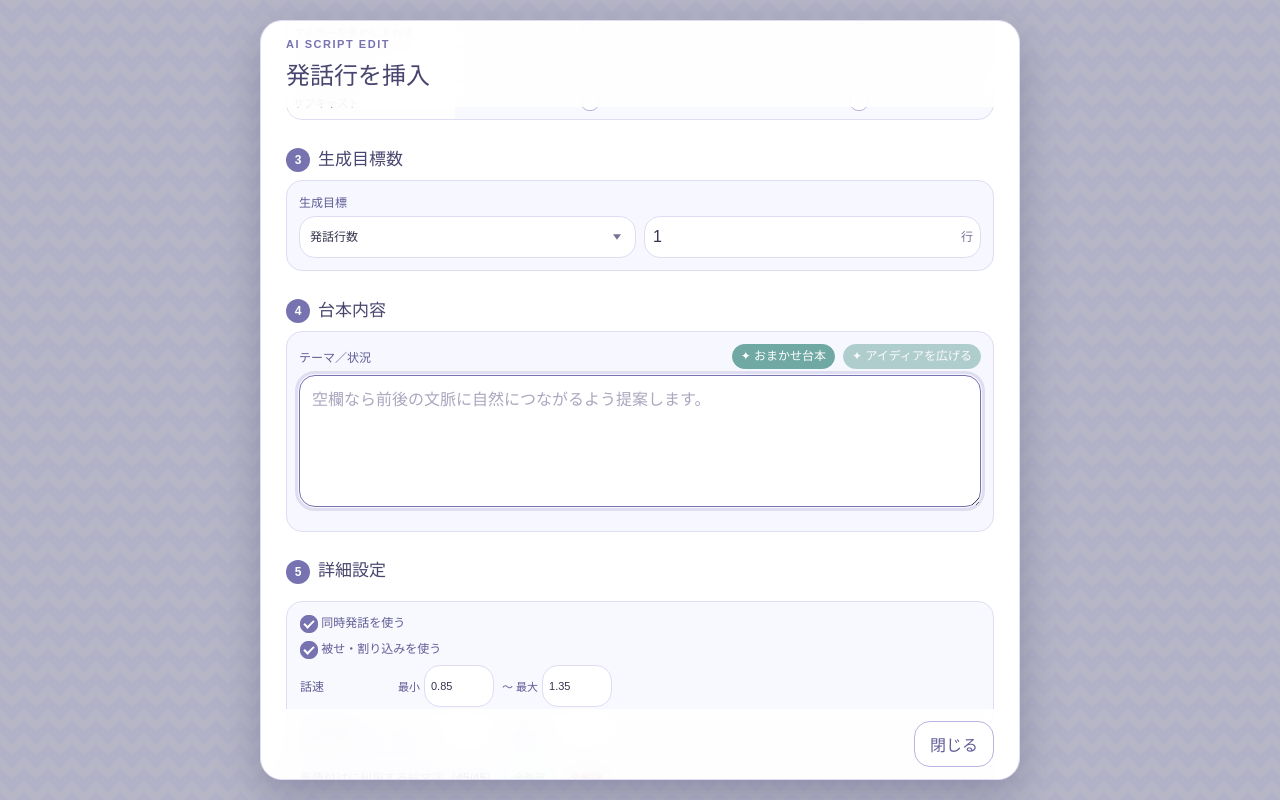
it: LineAssistantDialog line insertion › suggests script content from context when the theme is blank
(page scrolled)
Click the button "✦ おまかせ台本".
click(783, 357)  # box x1=732 y1=344 x2=835 y2=369
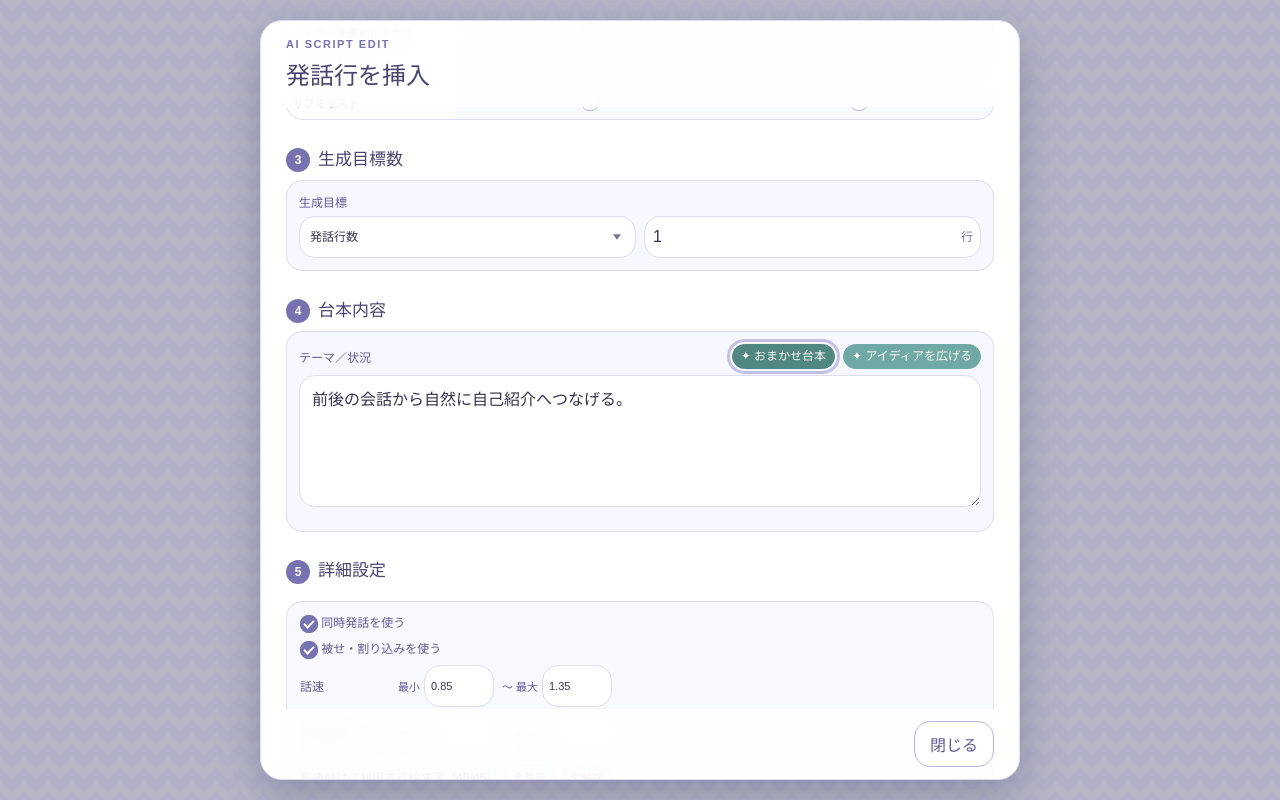
Check: the text box labelled "テーマ／状況" holds "前後の会話から自然に自己紹介へつなげる。", box x1=299 y1=375 x2=981 y2=507
